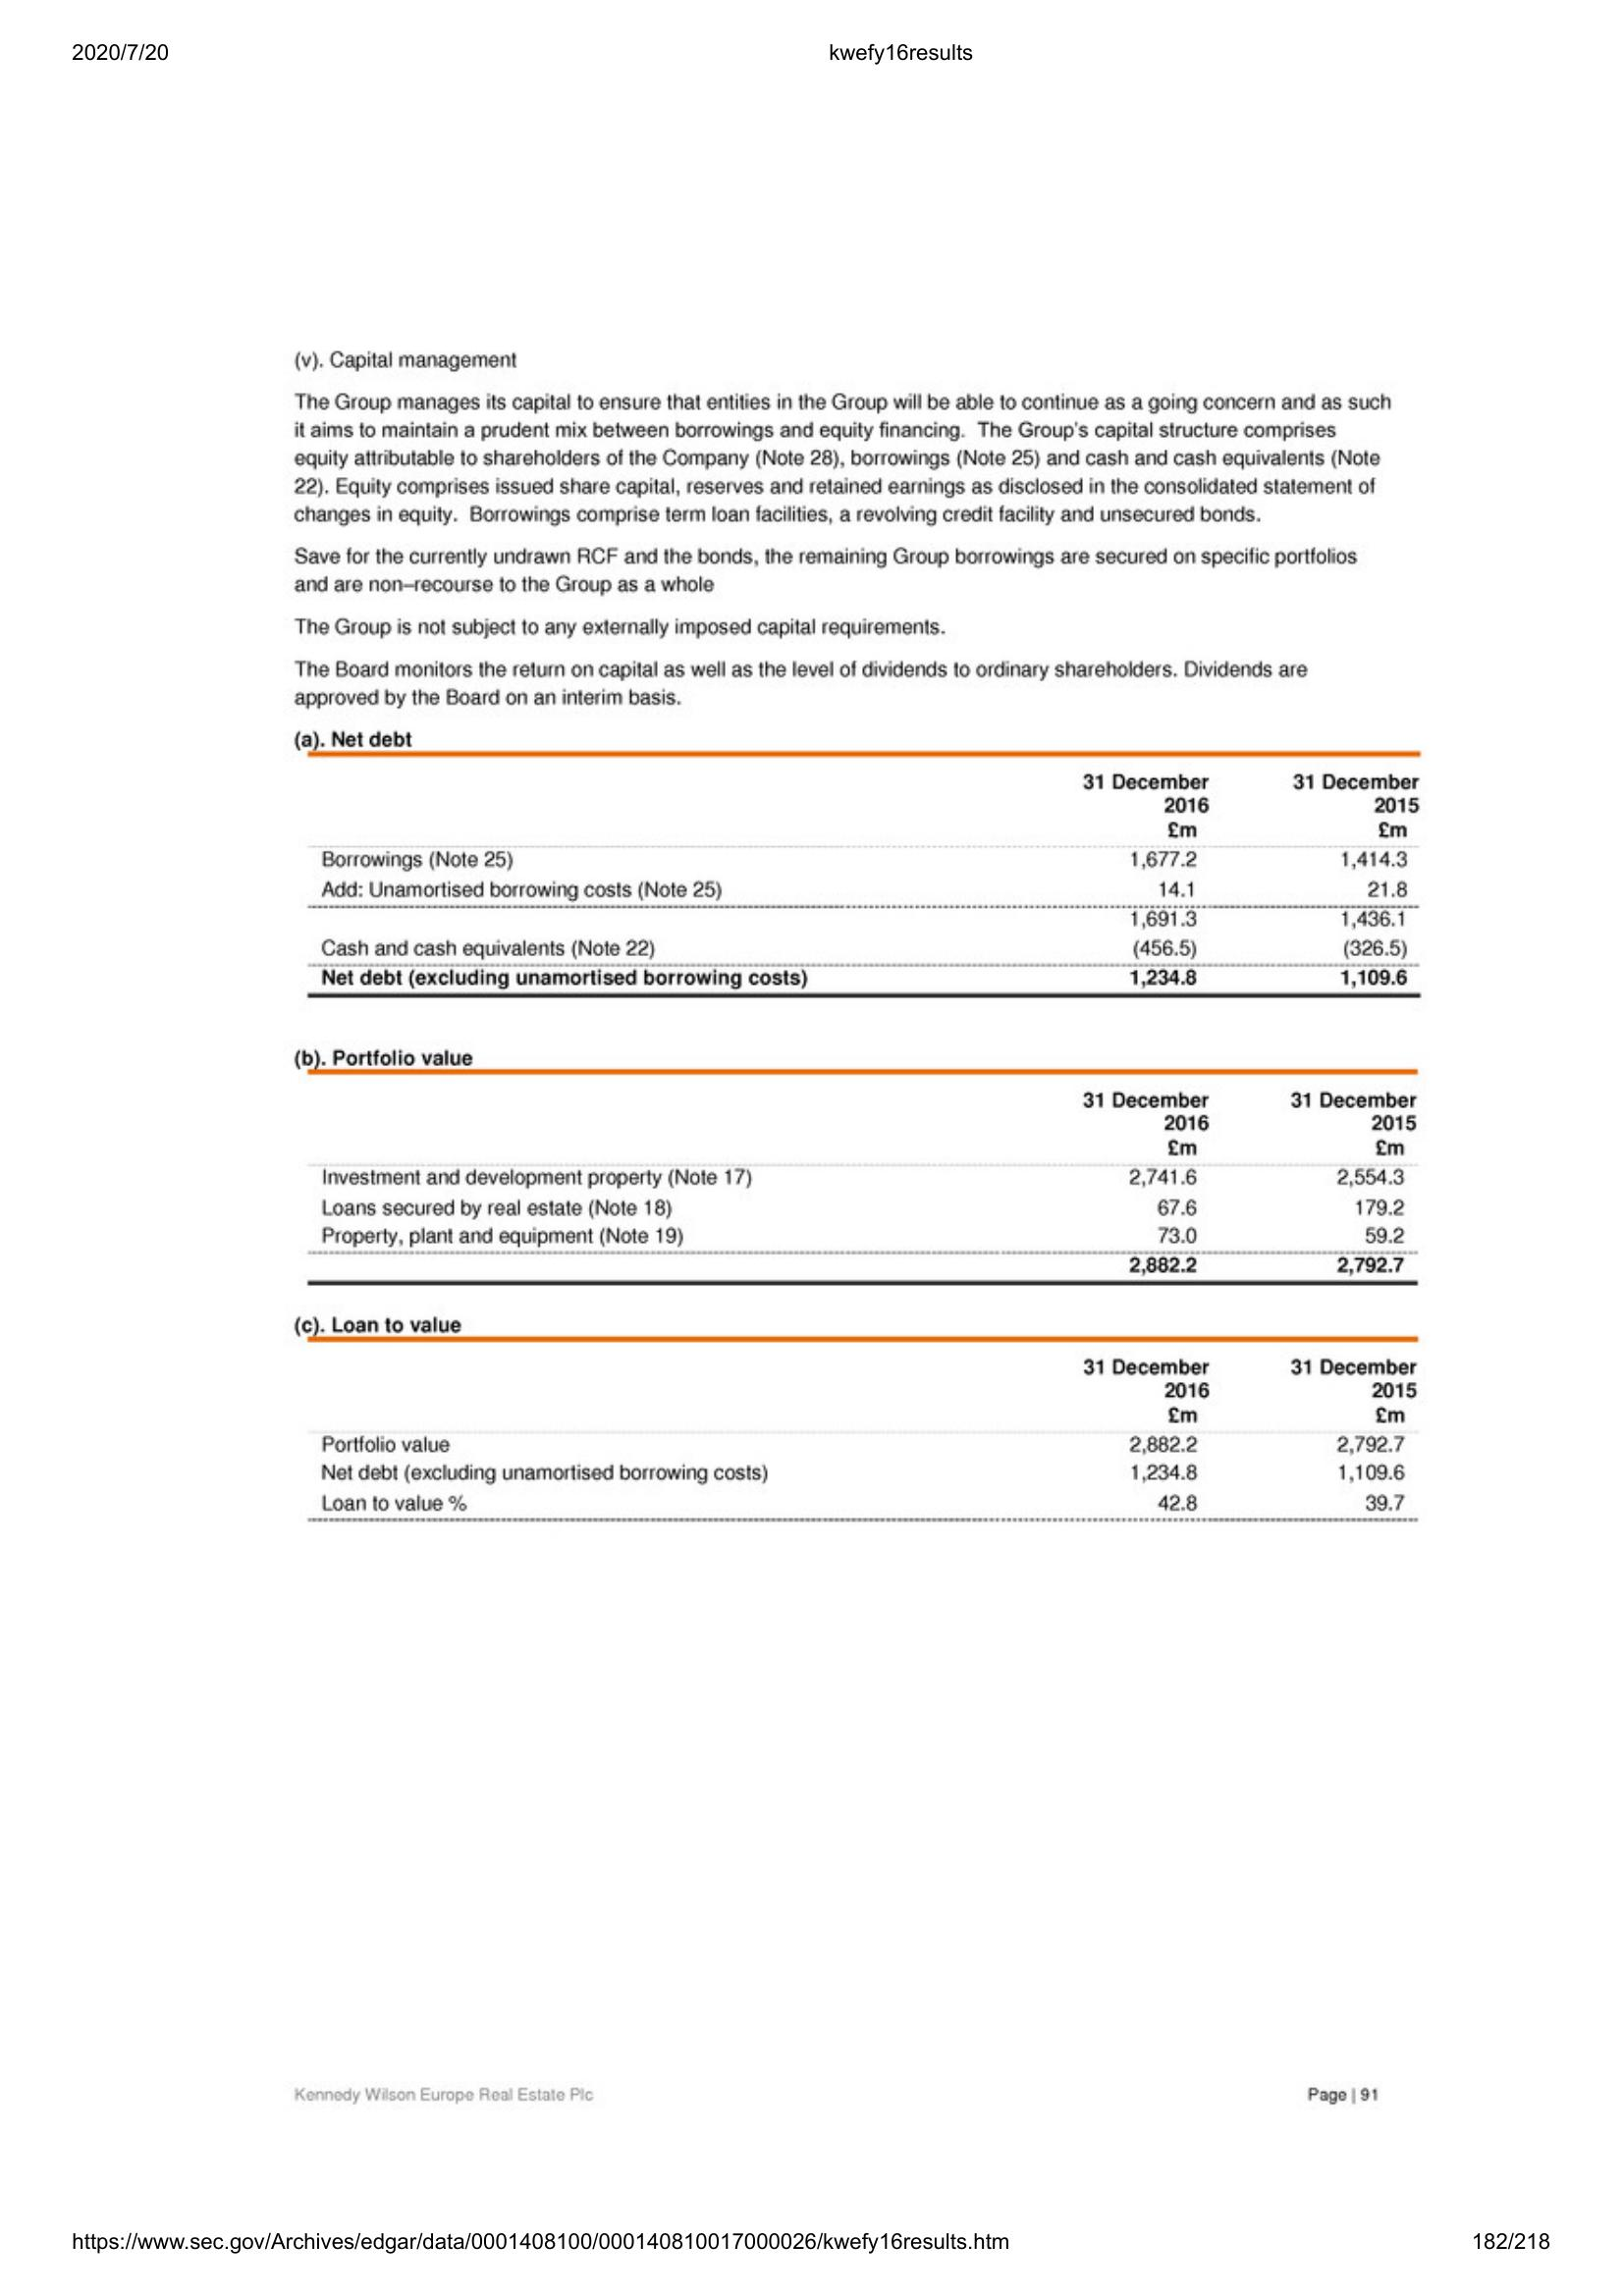table: (297, 748, 1425, 1004), (295, 1058, 1426, 1292), (309, 1327, 1423, 1527)
